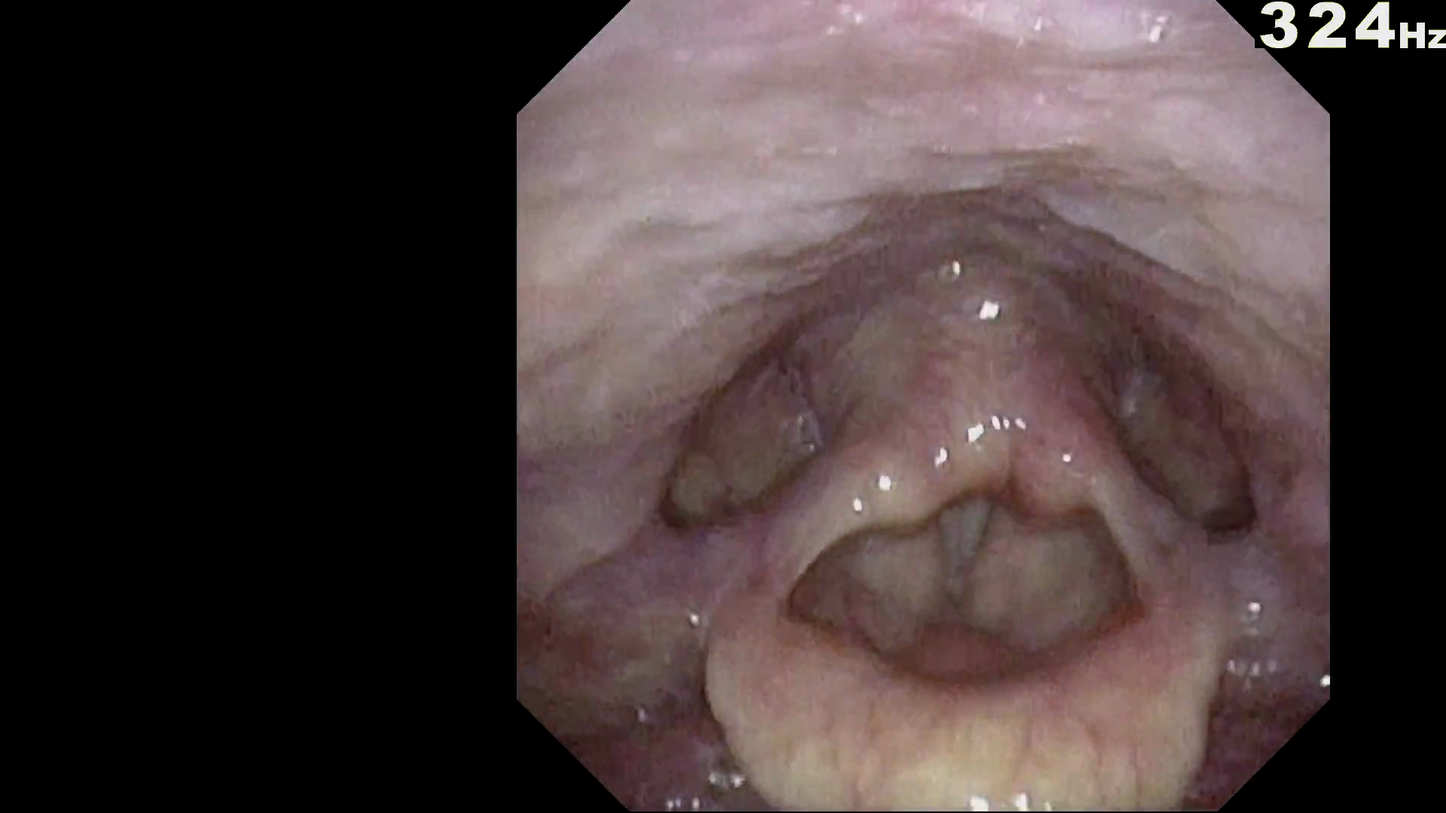epiglottis: (667, 530, 1276, 794)
trachea: (923, 488, 1018, 588)
